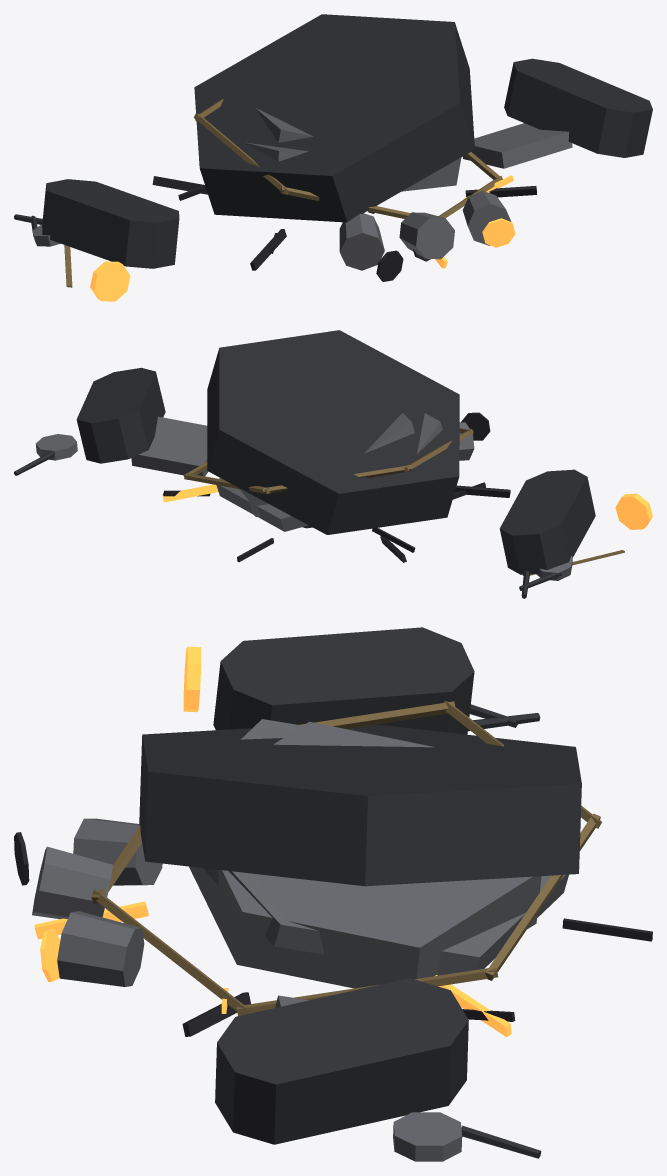
Rendered from Wreck_Aegis_Dominion.fbx.
3 views of the same model, one above another, from view 1: azimuth 30°, elevation 25°; view 2: azimuth 150°, elevation 25°; view 3: azimuth 270°, elevation 25° (orthographic). The views are drawn at different scales.
Parts seen in each view (by area): view 1: Wreck_Aegis_Dominion; view 2: Wreck_Aegis_Dominion; view 3: Wreck_Aegis_Dominion.
Part boxes in pixels (box(x1,y1,x2,y2)): Wreck_Aegis_Dominion: box(14, 14, 652, 301); Wreck_Aegis_Dominion: box(14, 330, 652, 598); Wreck_Aegis_Dominion: box(14, 627, 652, 1161).
Size of the model in its own units: 4.85 by 1.12 by 2.8.
